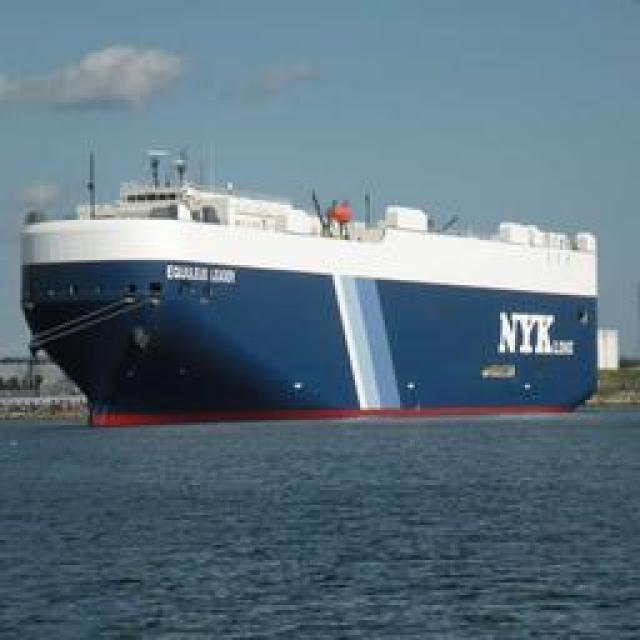CIV_Ship: (20, 186, 605, 416)
